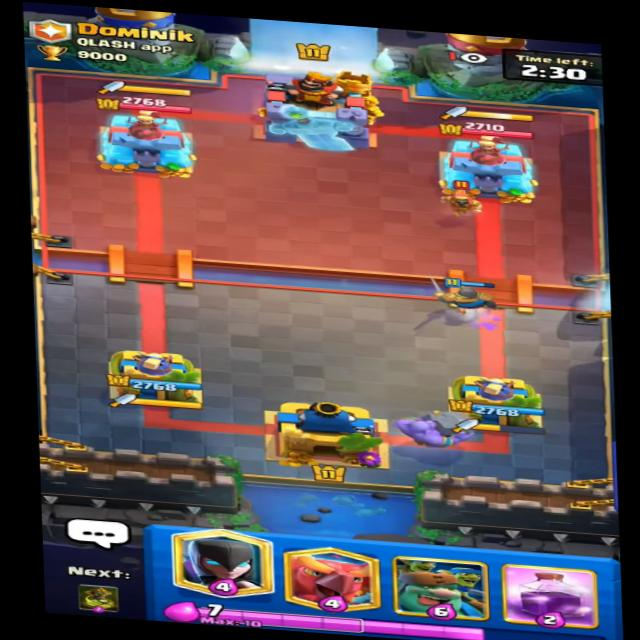wizard: (434, 176, 486, 220)
